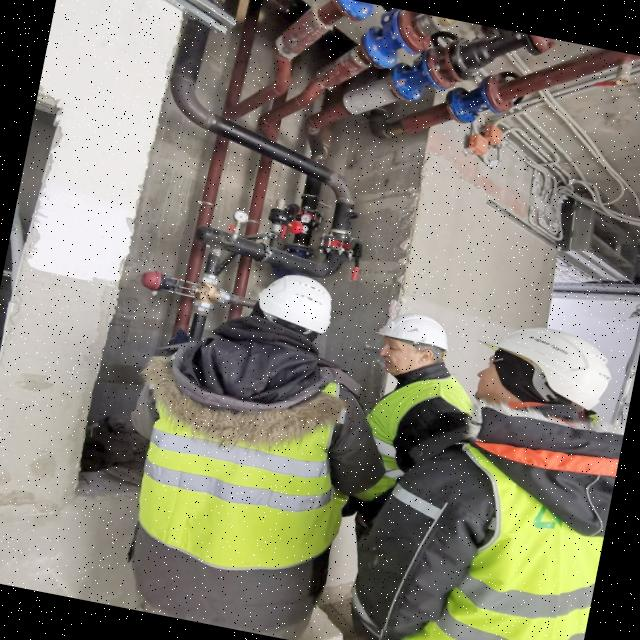Helmet: (470, 317, 620, 410), (253, 270, 340, 336), (373, 308, 454, 354)
Jacket: (135, 356, 348, 568), (407, 456, 614, 640), (374, 368, 470, 484)
